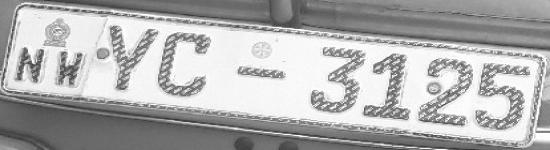-: (231, 58, 293, 91)
1: (367, 48, 415, 122)
2: (414, 52, 473, 127)
3: (306, 40, 367, 117)
5: (472, 56, 533, 132)
C: (160, 27, 219, 104)
N: (13, 45, 49, 86)
W: (49, 47, 85, 89)
Y: (99, 21, 160, 97)
